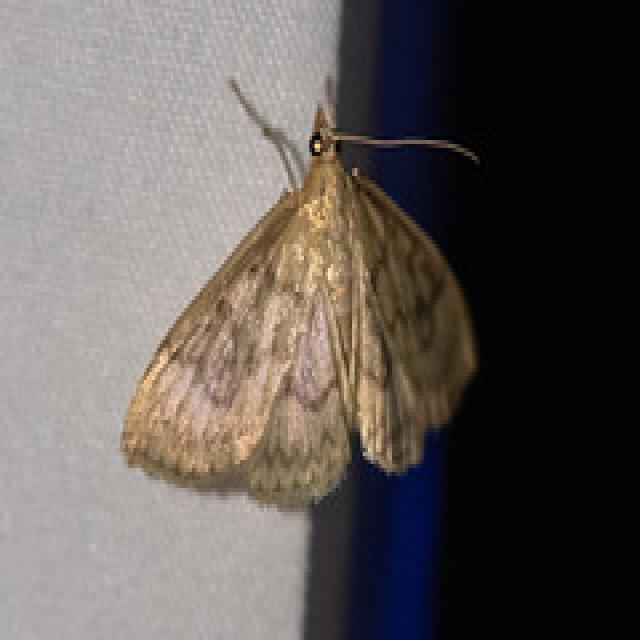cornborer-Adult-: (99, 77, 505, 525)
